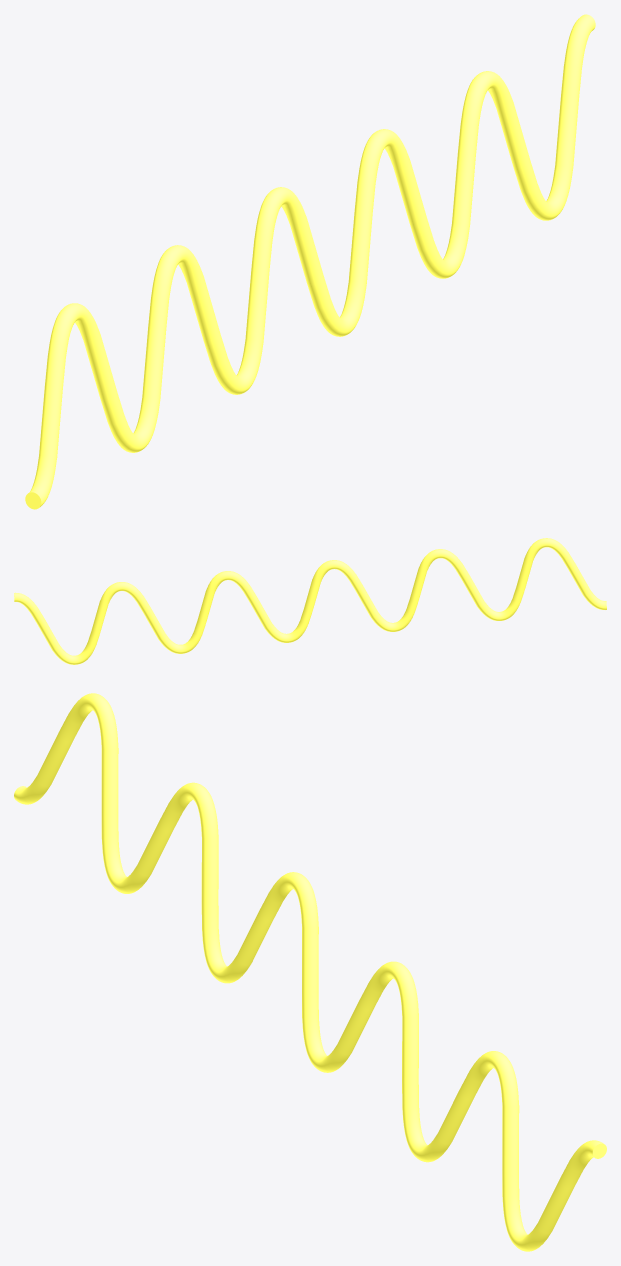
Rendered from yellowave.glb.
3 renders of one model, top to bottom at view 1: azimuth 30°, elevation 25°; view 2: azimuth 150°, elevation 25°; view 3: azimuth 270°, elevation 25°, orthographic. The views are drawn at different scales.
Parts seen in each view (by area): view 1: Sweep-Mat.13; view 2: Sweep-Mat.13; view 3: Sweep-Mat.13.
Boxes of the visible parts, x1=… form: Sweep-Mat.13: x1=25, y1=14, x2=595, y2=509; Sweep-Mat.13: x1=14, y1=538, x2=606, y2=664; Sweep-Mat.13: x1=14, y1=693, x2=606, y2=1251.
Bounding box in the file's own units: 12.87 × 3.59 × 8.2.
